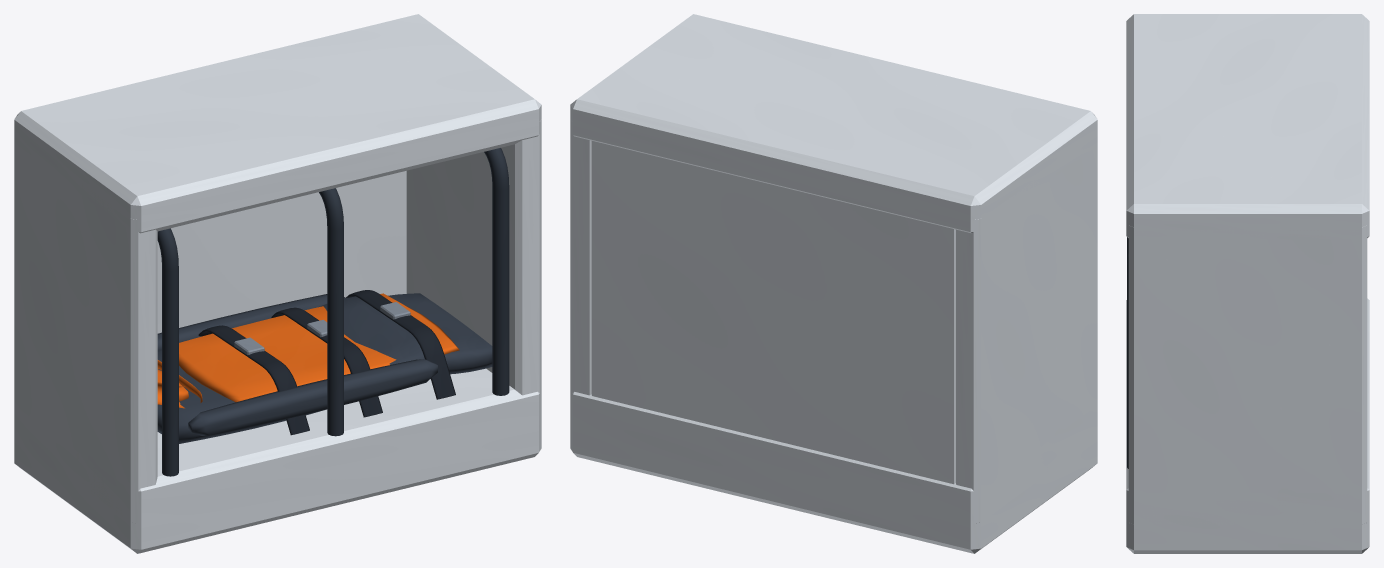
The model's file is bunk_r1_05.glb.
3 renders of one model, left to right at view 1: azimuth 30°, elevation 25°; view 2: azimuth 150°, elevation 25°; view 3: azimuth 270°, elevation 25°, orthographic. The views are drawn at different scales.
Visible parts, largest first — view 1: SpinPod_AerospaceShell, SpinPod_TechGreyFlightCouch, SpinPod_EVALockdownBars, SpinPod_SignalOrangeStabilizerPads, SpinPod_BallisticHarnessWebbing, SpinPod_TitaniumCamBuckles; view 2: SpinPod_AerospaceShell; view 3: SpinPod_AerospaceShell, SpinPod_EVALockdownBars.
Part boxes in pixels (box(x1,y1,x2,y2)): SpinPod_AerospaceShell: box(14, 14, 541, 553); SpinPod_TechGreyFlightCouch: box(157, 293, 492, 443); SpinPod_EVALockdownBars: box(157, 148, 509, 476); SpinPod_SignalOrangeStabilizerPads: box(157, 293, 459, 408); SpinPod_BallisticHarnessWebbing: box(198, 290, 455, 435); SpinPod_TitaniumCamBuckles: box(234, 302, 410, 354); SpinPod_AerospaceShell: box(570, 14, 1097, 553); SpinPod_AerospaceShell: box(1126, 14, 1369, 553); SpinPod_EVALockdownBars: box(1127, 237, 1128, 468).
Bounding box in the file's own units: 2.14 × 1.78 × 1.12.
Materials: 7 (7 with a texture image).
